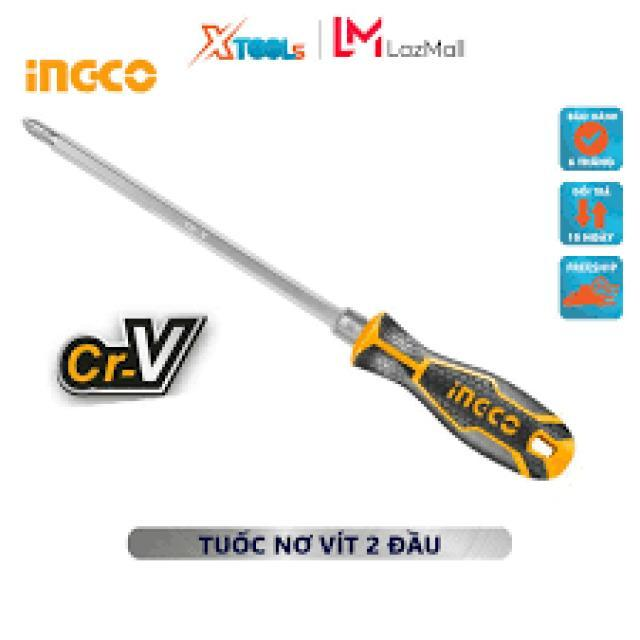screwdriver: (14, 112, 583, 491)
